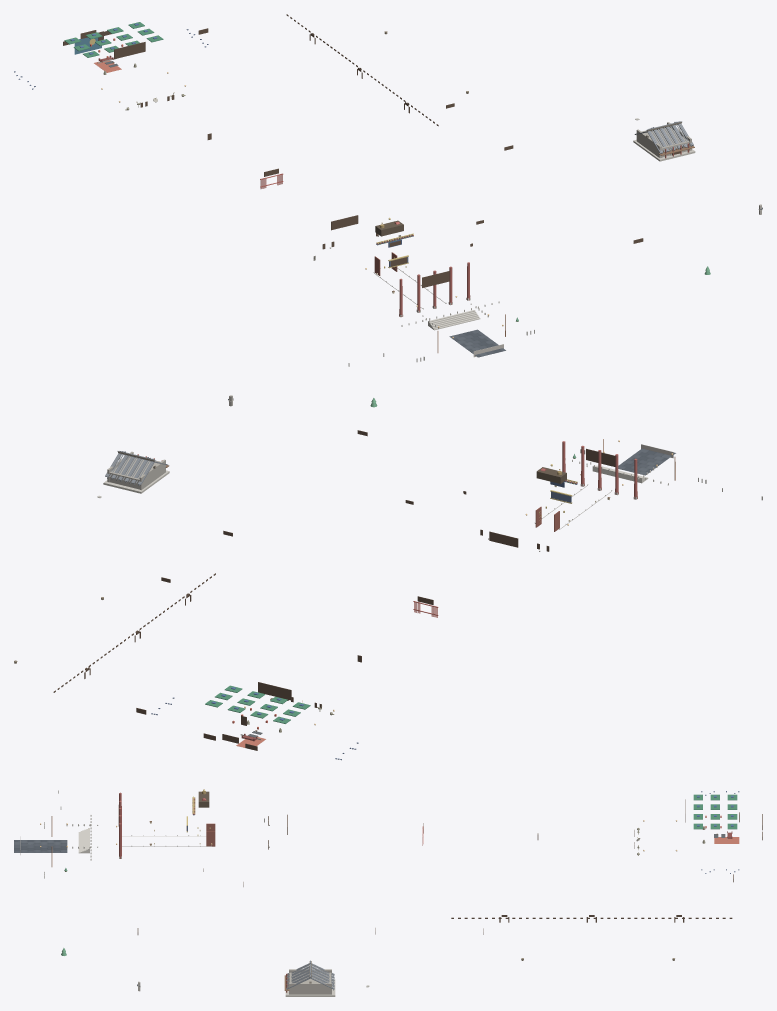
File: tile_2000_-500.glb
3 renders of one model, top to bottom at view 1: azimuth 30°, elevation 25°; view 2: azimuth 150°, elevation 25°; view 3: azimuth 270°, elevation 25°, orthographic. The views are drawn at different scales.
Visible parts, largest first — view 1: tile; view 2: tile; view 3: tile.
Boxes of the visible parts, left/top/right/bottom form: tile: left=14, top=14, right=762, bottom=366; tile: left=14, top=395, right=762, bottom=760; tile: left=14, top=789, right=762, bottom=996.
Size of the model in its own units: 264 by 36.1 by 394.
Materials: 69 (3 with a texture image).
